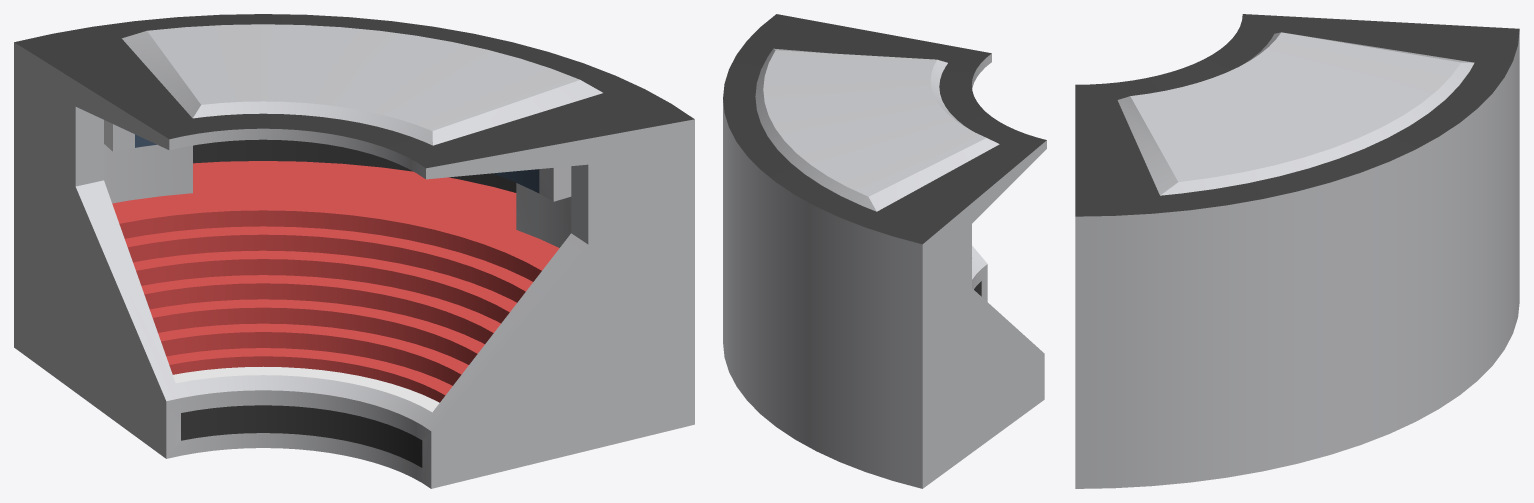
The model's file is grandStandCoveredRound.glb.
3 views of the same model, side by side, from view 1: azimuth 30°, elevation 25°; view 2: azimuth 150°, elevation 25°; view 3: azimuth 270°, elevation 25° (orthographic). The views are drawn at different scales.
Parts seen in each view (by area): view 1: grandStandCoveredRound(Clone); view 2: grandStandCoveredRound(Clone); view 3: grandStandCoveredRound(Clone).
Part boxes in pixels (x1,y1,x2,y2): grandStandCoveredRound(Clone): [14, 14, 694, 488]; grandStandCoveredRound(Clone): [723, 14, 1046, 488]; grandStandCoveredRound(Clone): [1075, 14, 1519, 488].
Bounding box in the file's own units: 1.64 × 1.19 × 1.64.
